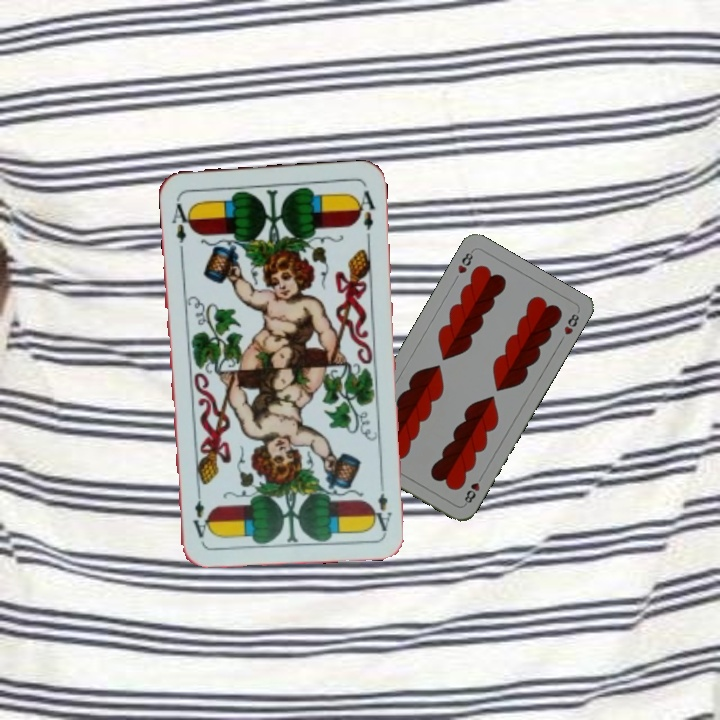EA: (368, 474, 394, 534), (167, 194, 195, 246)
H8: (460, 470, 486, 508), (454, 246, 476, 276)
